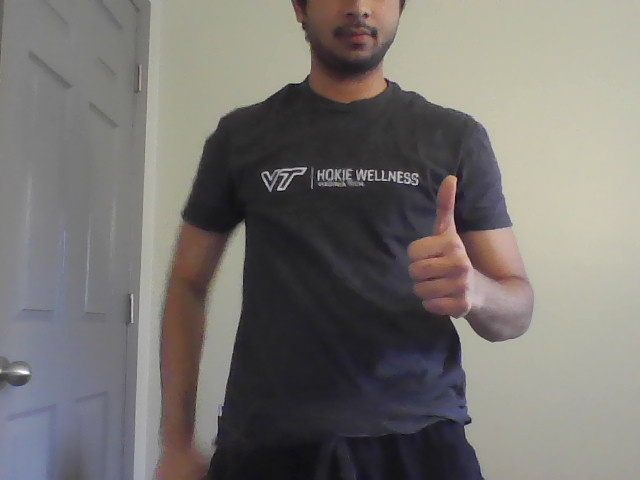confirm: (396, 172, 483, 320)
